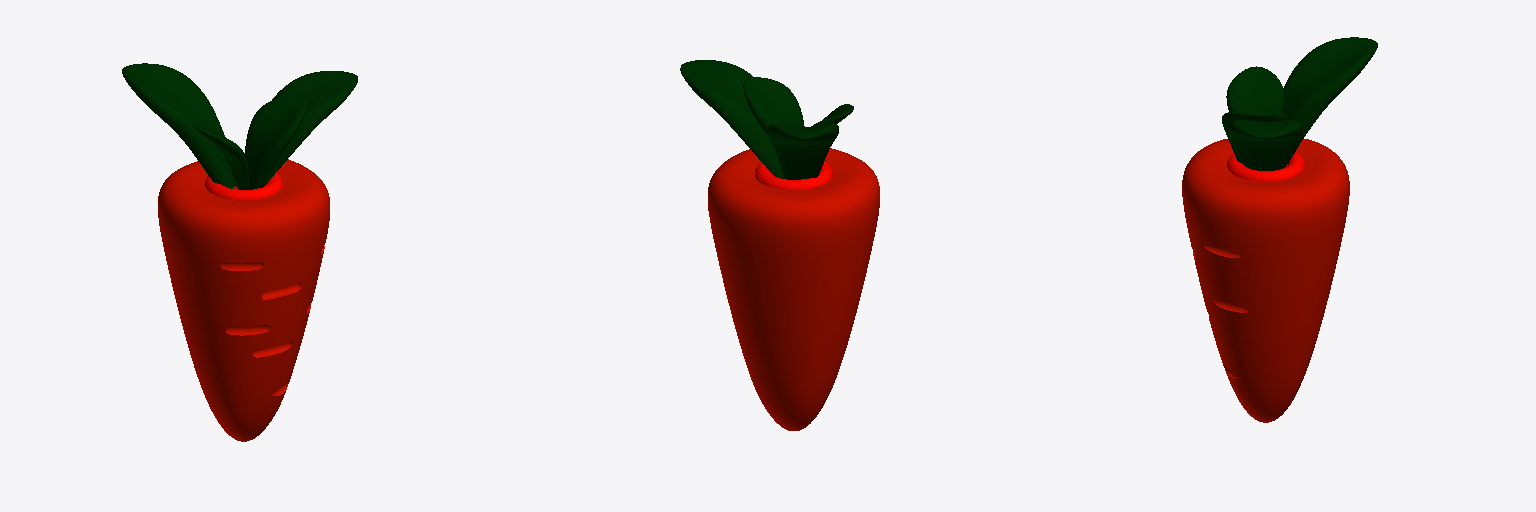
The model's file is carrot.obj.
3 views of the same model, side by side, from view 1: azimuth 30°, elevation 25°; view 2: azimuth 150°, elevation 25°; view 3: azimuth 270°, elevation 25° (orthographic).
Visible parts, largest first — view 1: Cube.001_Cube.019, Cube.004_Cube.022, Cube.002_Cube.001, Cube_Cube.020, Cube.003_Cube.002, Torus; view 2: Cube.001_Cube.019, Cube_Cube.020, Cube.004_Cube.022, Cube.002_Cube.001, Torus; view 3: Cube.001_Cube.019, Cube.004_Cube.022, Cube_Cube.020, Cube.003_Cube.002, Torus, Cube.002_Cube.001.
Part boxes in pixels (left/top/right/bottom): Cube.001_Cube.019: left=158, top=153, right=329, bottom=441; Cube.004_Cube.022: left=122, top=63, right=235, bottom=188; Cube.002_Cube.001: left=245, top=97, right=306, bottom=189; Cube_Cube.020: left=263, top=71, right=357, bottom=186; Cube.003_Cube.002: left=194, top=121, right=248, bottom=189; Torus: left=205, top=173, right=282, bottom=200; Cube.001_Cube.019: left=708, top=148, right=879, bottom=430; Cube_Cube.020: left=680, top=60, right=783, bottom=178; Cube.004_Cube.022: left=768, top=123, right=838, bottom=179; Cube.002_Cube.001: left=743, top=77, right=804, bottom=133; Torus: left=755, top=161, right=832, bottom=189; Cube.001_Cube.019: left=1182, top=139, right=1349, bottom=422; Cube.004_Cube.022: left=1282, top=37, right=1377, bottom=141; Cube_Cube.020: left=1229, top=120, right=1302, bottom=170; Cube.003_Cube.002: left=1226, top=66, right=1283, bottom=113; Torus: left=1227, top=152, right=1304, bottom=181; Cube.002_Cube.001: left=1222, top=112, right=1287, bottom=166.
Size of the model in its own units: 0.9942 by 1.78 by 0.9079.